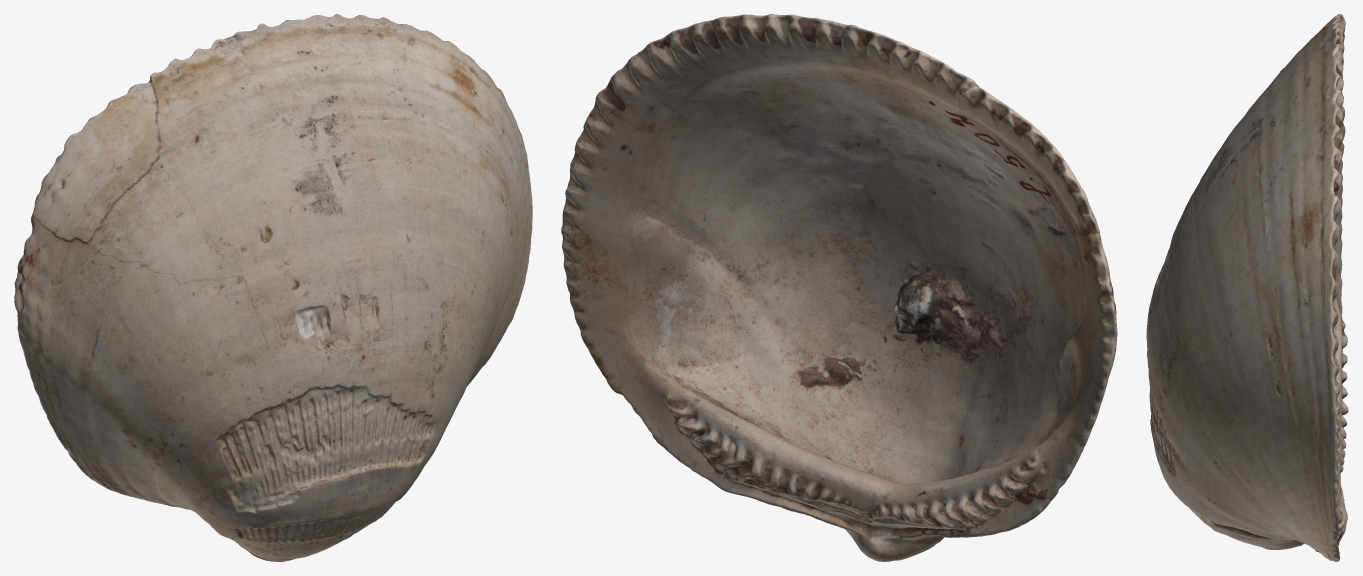
File: EWS0016574.glb
The picture shows the model from 3 angles, left to right: view 1: azimuth 30°, elevation 25°; view 2: azimuth 150°, elevation 25°; view 3: azimuth 270°, elevation 25°; orthographic projection. The views are drawn at different scales.
Visible parts, largest first — view 1: input; view 2: input; view 3: input.
Boxes of the visible parts, x1,y1,x2,y2 form: input: (14, 14, 532, 561); input: (561, 14, 1117, 561); input: (1146, 14, 1348, 561).
Bounding box in the file's own units: 0.0452 × 0.0426 × 0.0155.
Materials: 1 (1 with a texture image).
